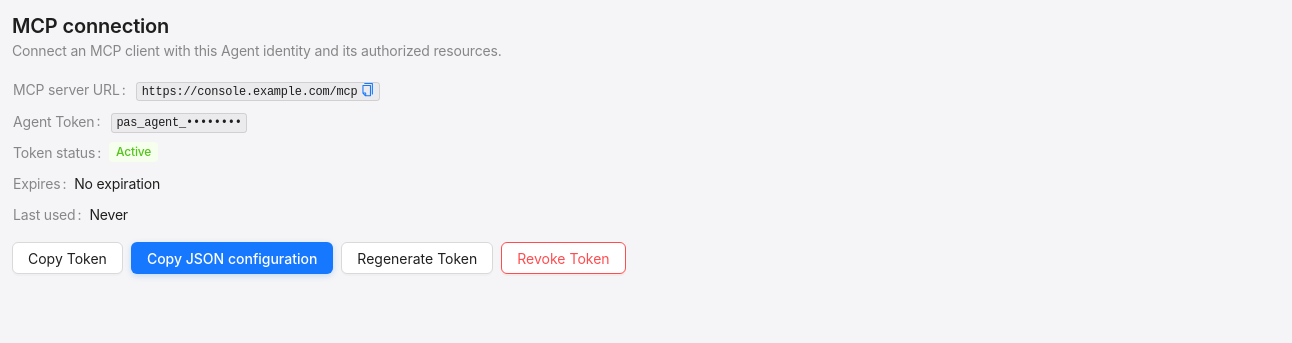
Agent MCP connection panel › keeps the Token masked and copies JSON with the admin session
Expected: the text "pas_agent_••••••••" is shown, x1=111 y1=113 x2=247 y2=133
Step 1. Click the button "Copy JSON configuration" → coordinates (232, 258), box x1=131 y1=242 x2=333 y2=274
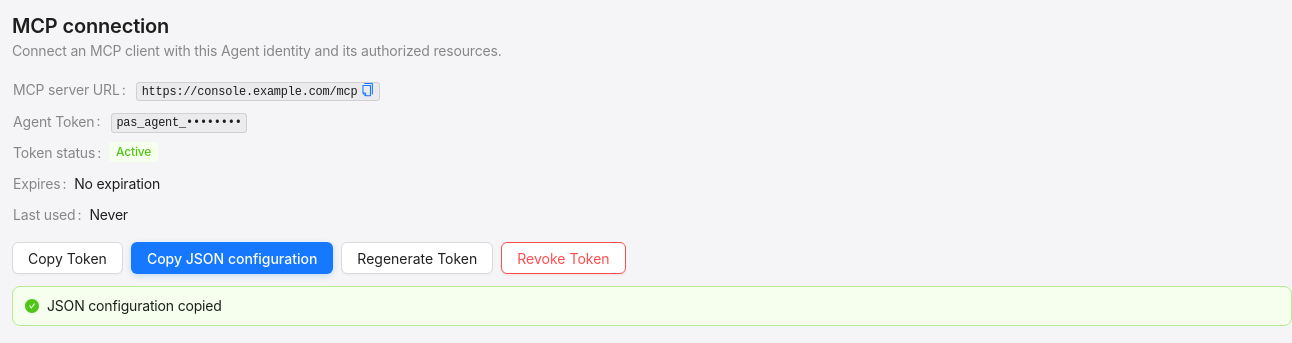
Result: the message shows "copied" at x1=47 y1=297 x2=222 y2=314
